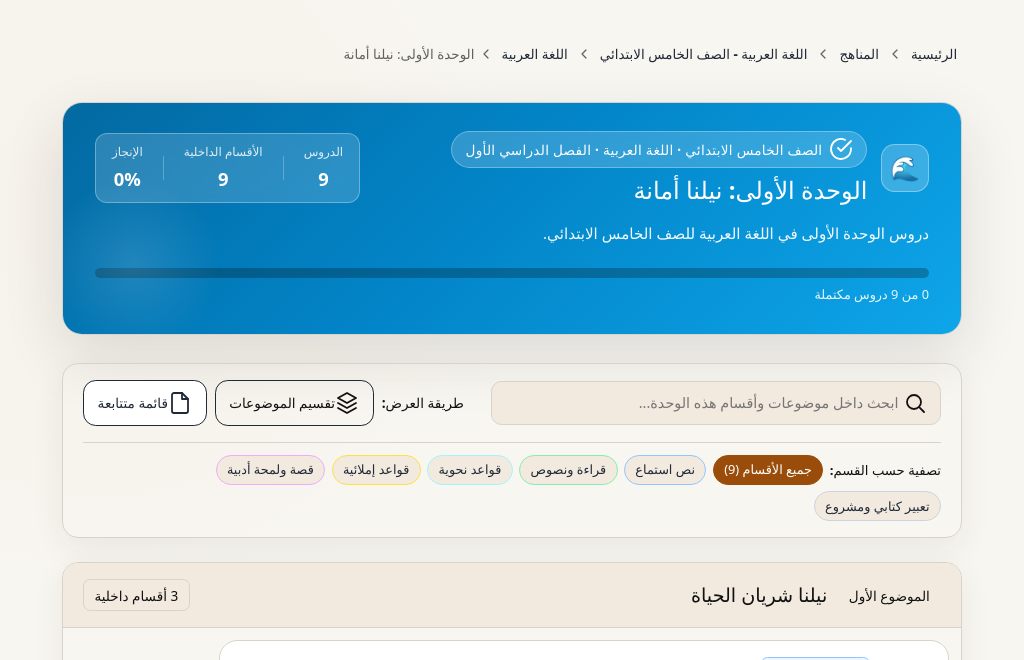
it: تعميم الفهرس والأقسام الداخلية لجميع الوحدات والمراحل (Unit Index Generalization) › يتيح التبديل بين تقسيم الموضوعات والقائمة المتتابعة
Expected: the heading "نيلنا شريان الحياة" is shown, [691,583,827,608]
# التبديل إلى القائمة المتتابعة
Step 1. Click the button "قائمة متتابعة" → {"x": 145, "y": 403}, box [83,380,207,426]
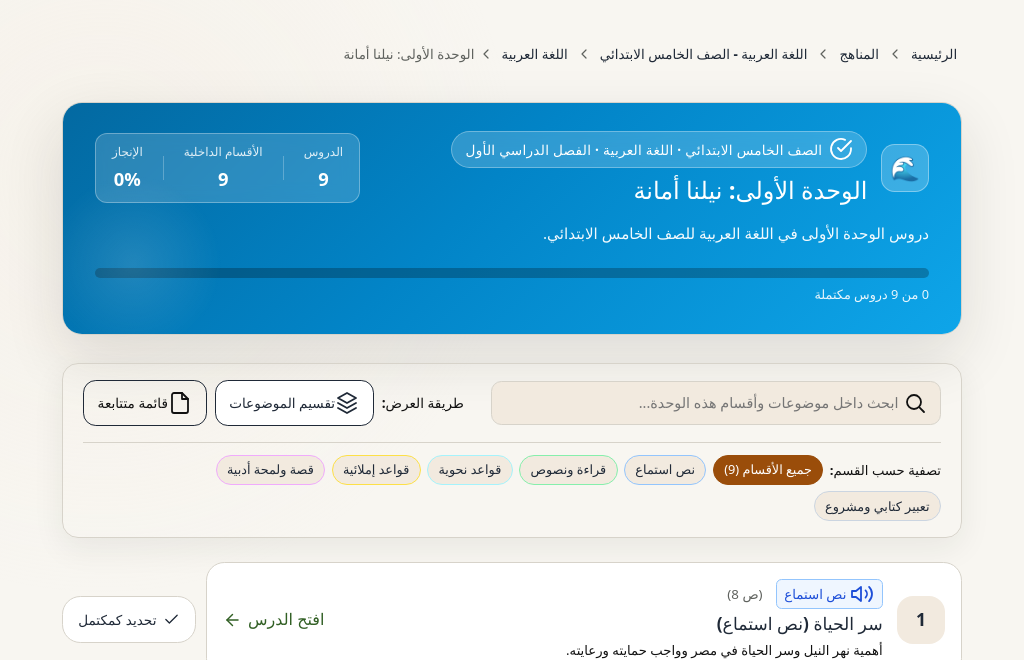
Expected: the text "سر الحياة (نص استماع)" is shown, [717,612,883,635]
Now the heading "نيلنا شريان الحياة" is gone
